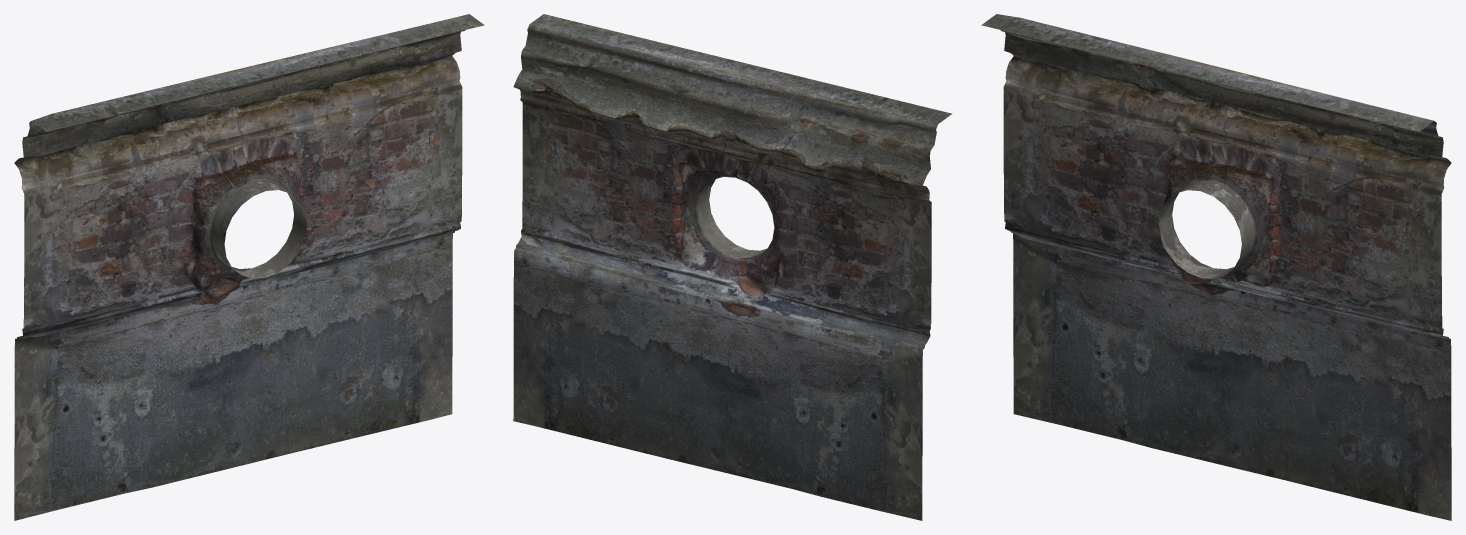
File: SM_ChapelWall_04_01_OneSide.fbx
3 views of the same model, side by side, from view 1: azimuth 30°, elevation 25°; view 2: azimuth 150°, elevation 25°; view 3: azimuth 330°, elevation 25° (orthographic). The views are drawn at different scales.
Visible parts, largest first — view 1: sm_ChapelWall_04_01_OneSide_LOD0; view 2: sm_ChapelWall_04_01_OneSide_LOD0; view 3: sm_ChapelWall_04_01_OneSide_LOD0.
Boxes of the visible parts, x1,y1,x2,y2 form: sm_ChapelWall_04_01_OneSide_LOD0: (14, 14, 484, 520); sm_ChapelWall_04_01_OneSide_LOD0: (513, 14, 952, 520); sm_ChapelWall_04_01_OneSide_LOD0: (981, 14, 1451, 520).
Bounding box in the file's own units: 38.08 × 250 × 225.
